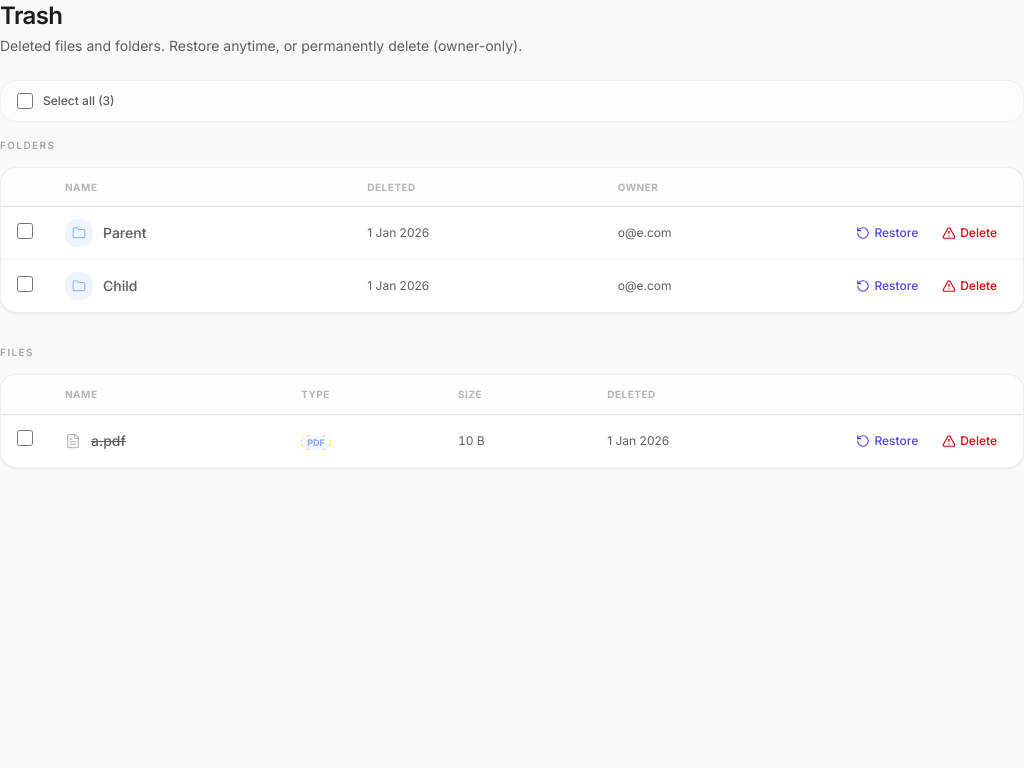
Test: TrashBrowser — single-item permanent delete (optimistic, bulk path) › removes the whole trashed subtree, uses the bulk endpoint, and refreshes once
Expected: the text "Parent" is shown, [103,223,146,243]
Expected: the text "Child" is shown, [103,276,137,296]
Click the button "Delete" in the row of "Parent". click: (970, 233)
box: [932,219,1007,247]
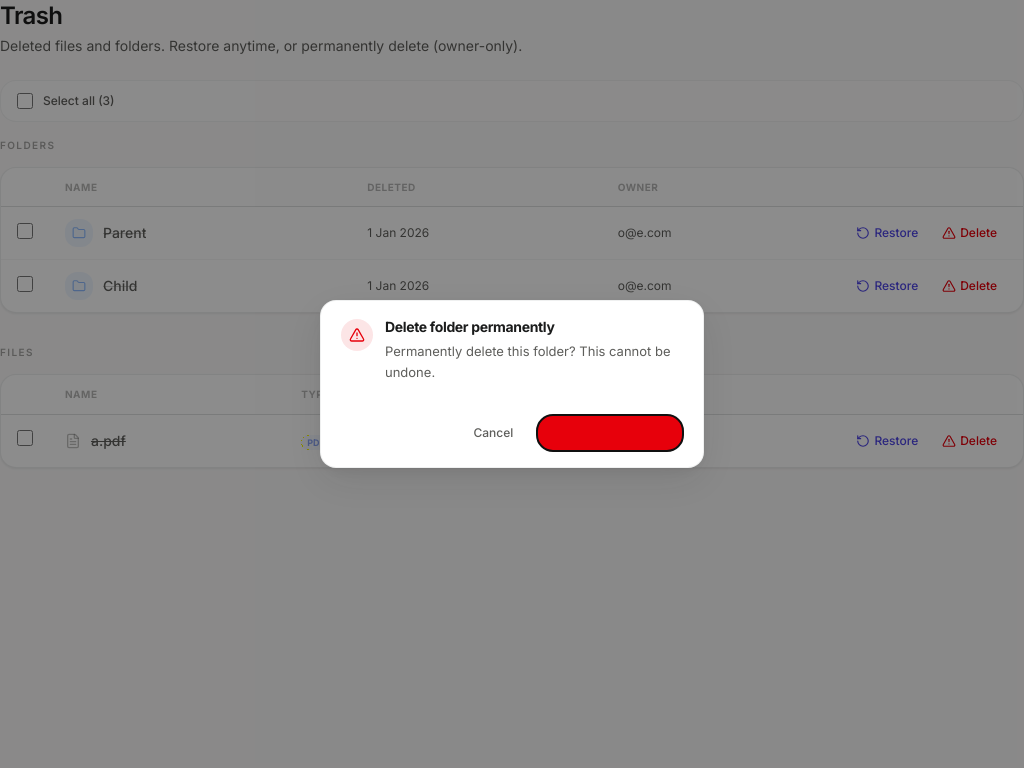
Click the button "Delete permanently". click: (610, 433)
box: [537,415,683,451]
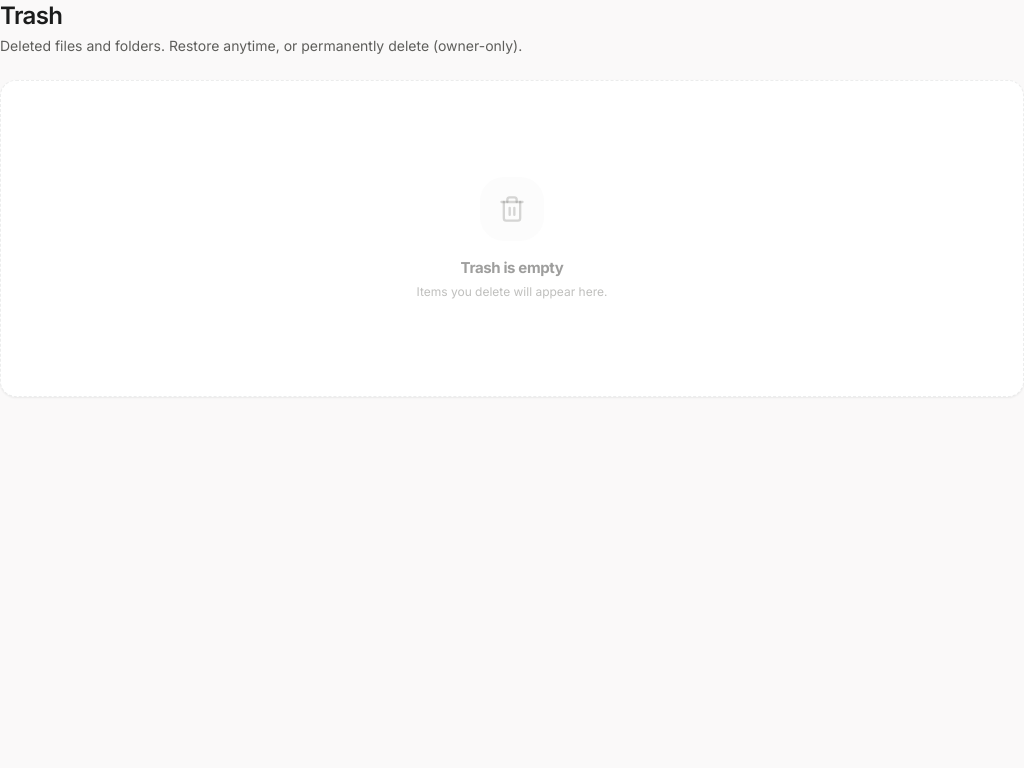
Now the text "Parent" is gone
Now the text "Child" is gone
Now the text "a.pdf" is gone
